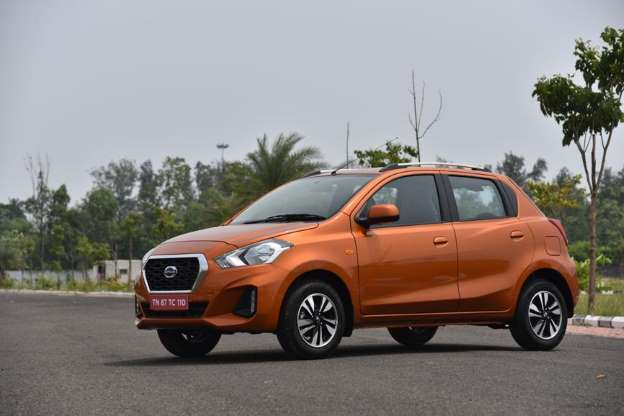car: (132, 165, 579, 353)
